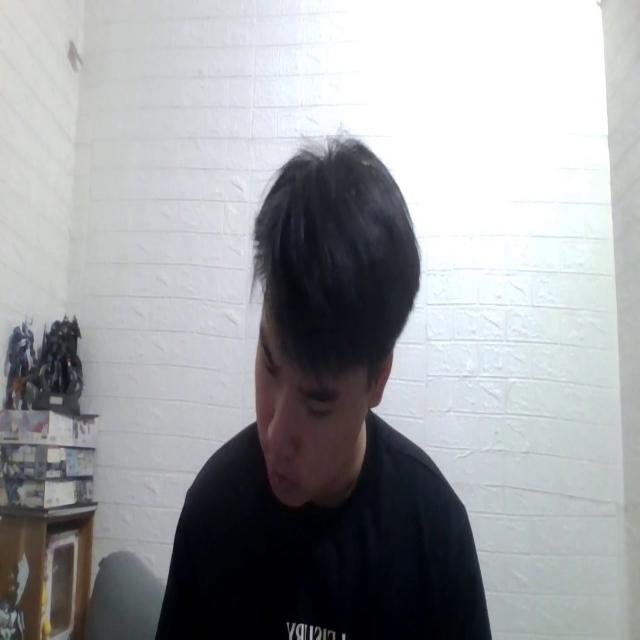student: (158, 130, 494, 640)
